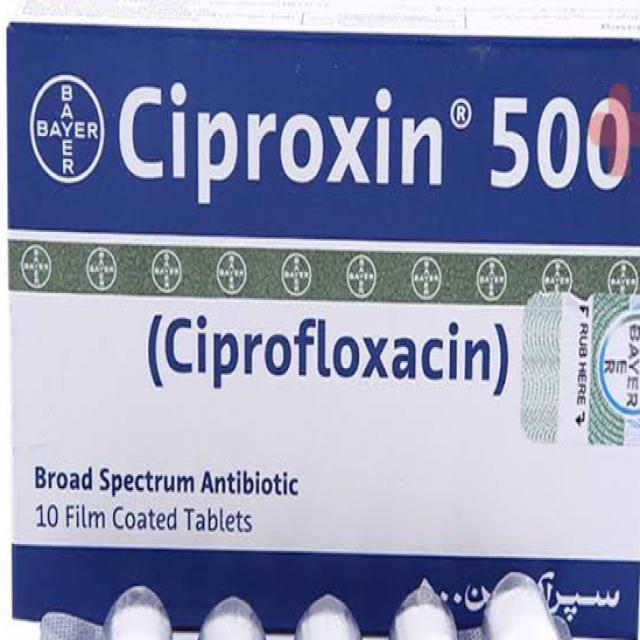drug-name: (118, 80, 630, 196)
